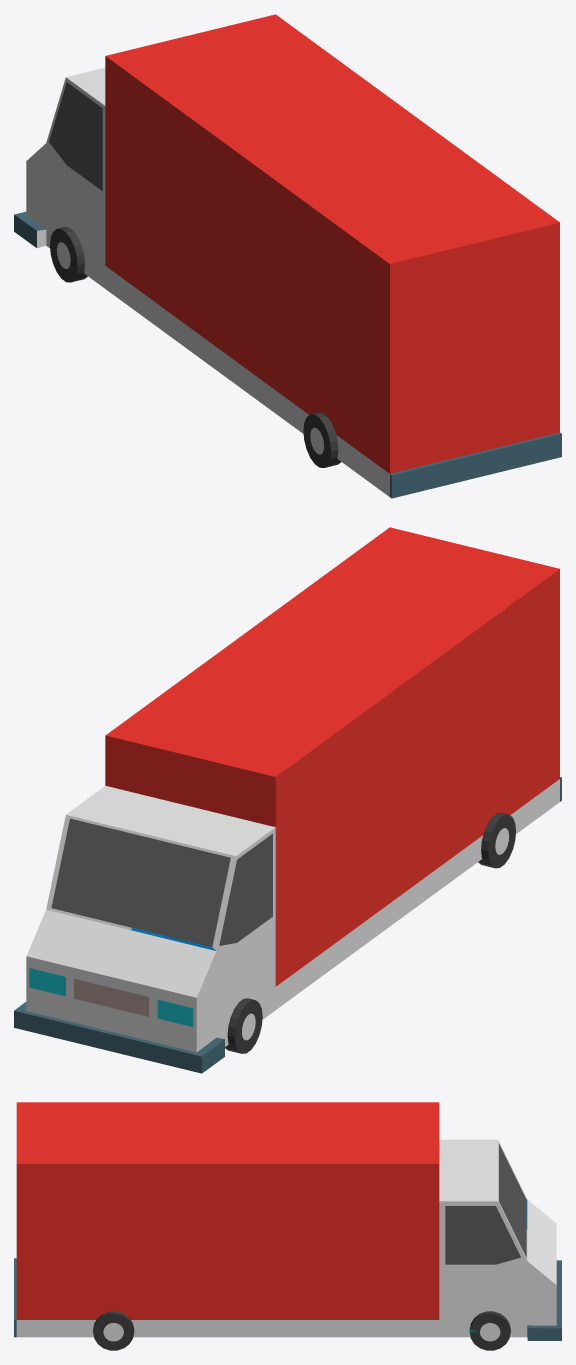
The model's file is car_08_4_world_ap.8_0_lev1.glb.
The picture shows the model from 3 angles, top to bottom: view 1: azimuth 30°, elevation 25°; view 2: azimuth 150°, elevation 25°; view 3: azimuth 270°, elevation 25°; orthographic projection. The views are drawn at different scales.
Visible parts, largest first — view 1: car_08_4_world_ap.8_0_lev1; view 2: car_08_4_world_ap.8_0_lev1; view 3: car_08_4_world_ap.8_0_lev1.
Part boxes in pixels (x1,y1,x2,y2): car_08_4_world_ap.8_0_lev1: (14,14,561,498); car_08_4_world_ap.8_0_lev1: (14,527,561,1073); car_08_4_world_ap.8_0_lev1: (14,1102,561,1350).
Size of the model in its own units: 0.7933 by 0.9995 by 2.7.
Materials: 1 (1 with a texture image).
